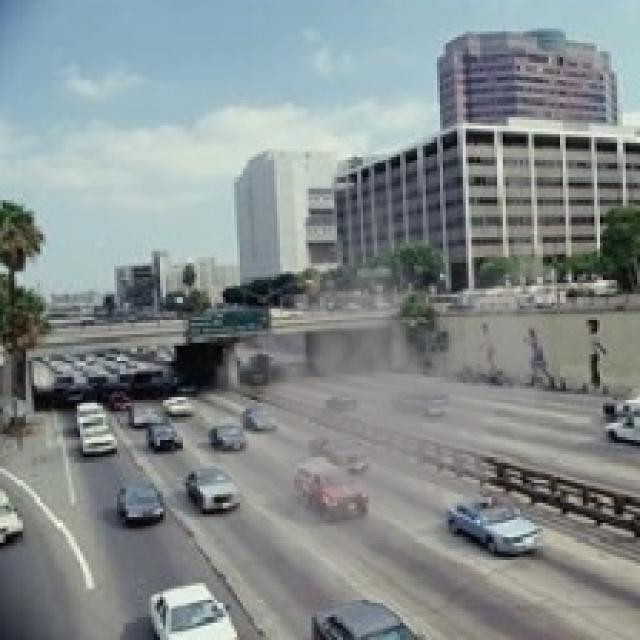smoke: (183, 172, 563, 594)
